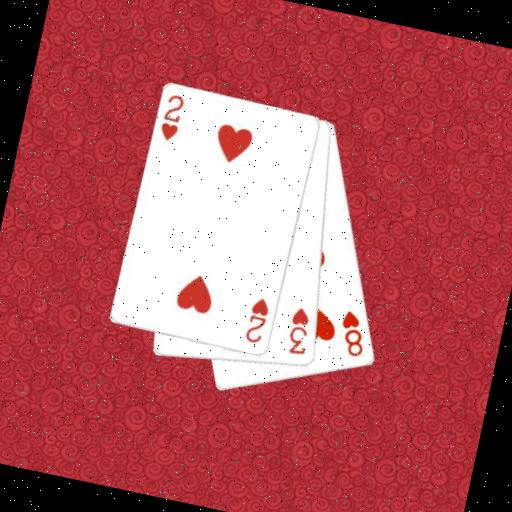2H: (241, 293, 273, 347), (155, 90, 187, 144)
3H: (282, 302, 316, 358)
8H: (332, 306, 372, 360)
